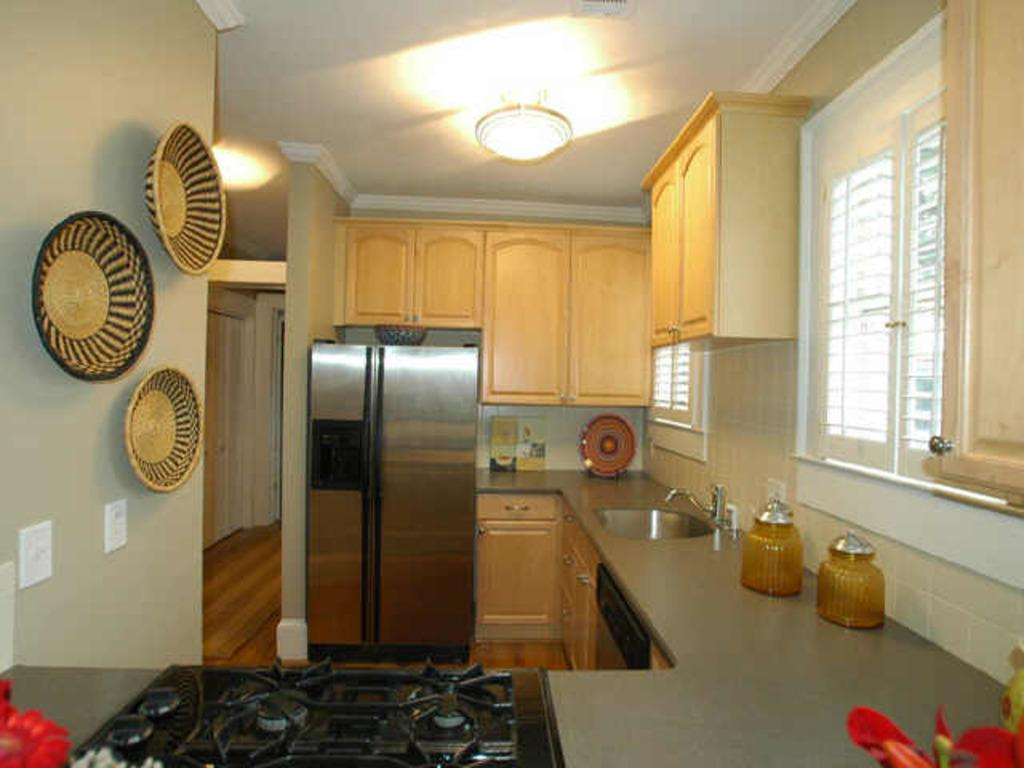cabinet_door: (954, 34, 1024, 485), (489, 237, 567, 397), (573, 242, 649, 395), (673, 157, 716, 333), (338, 224, 412, 324), (414, 226, 480, 328), (486, 520, 548, 628), (648, 180, 675, 336), (484, 490, 552, 516)
handle: (358, 351, 376, 636), (370, 358, 388, 634), (926, 422, 956, 458), (506, 492, 532, 516)
